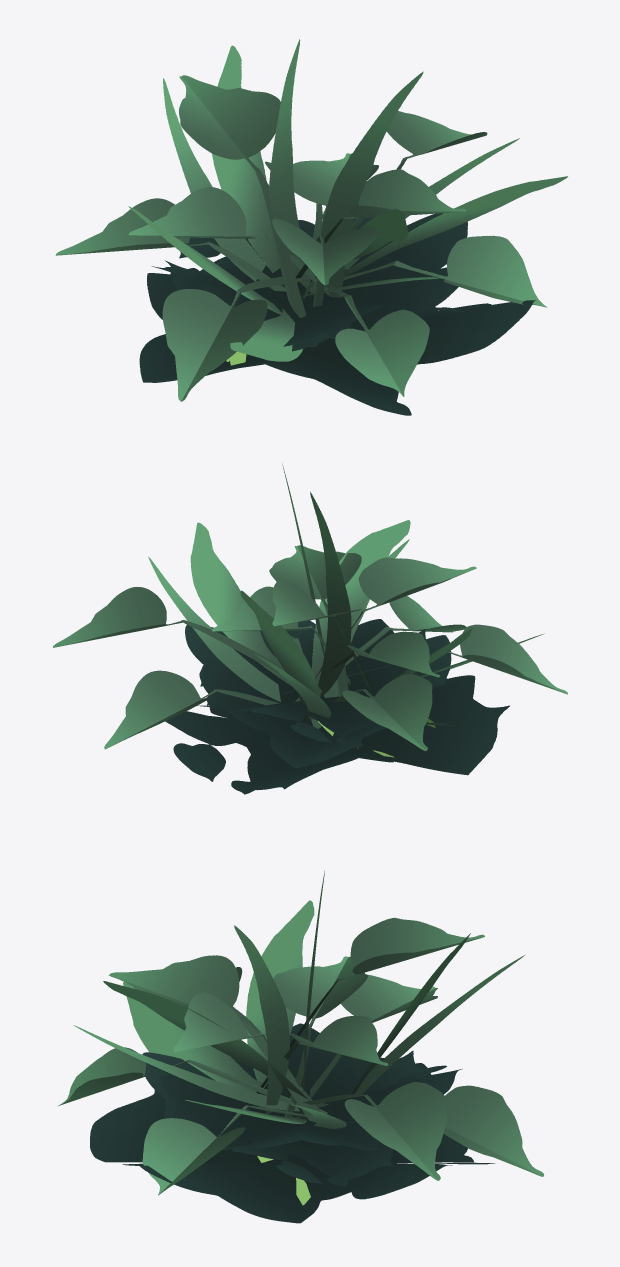
File: plant_01.glb
The picture shows the model from 3 angles, top to bottom: view 1: azimuth 30°, elevation 25°; view 2: azimuth 150°, elevation 25°; view 3: azimuth 270°, elevation 25°; orthographic projection. The views are drawn at different scales.
Parts seen in each view (by area): view 1: plant_01; view 2: plant_01; view 3: plant_01.
Boxes of the visible parts, left/top/right/bottom form: plant_01: left=55, top=39, right=567, bottom=415; plant_01: left=53, top=464, right=567, bottom=794; plant_01: left=58, top=871, right=543, bottom=1223.
Size of the model in its own units: 1.24 by 0.6838 by 1.14.
Materials: 1 (1 with a texture image).
